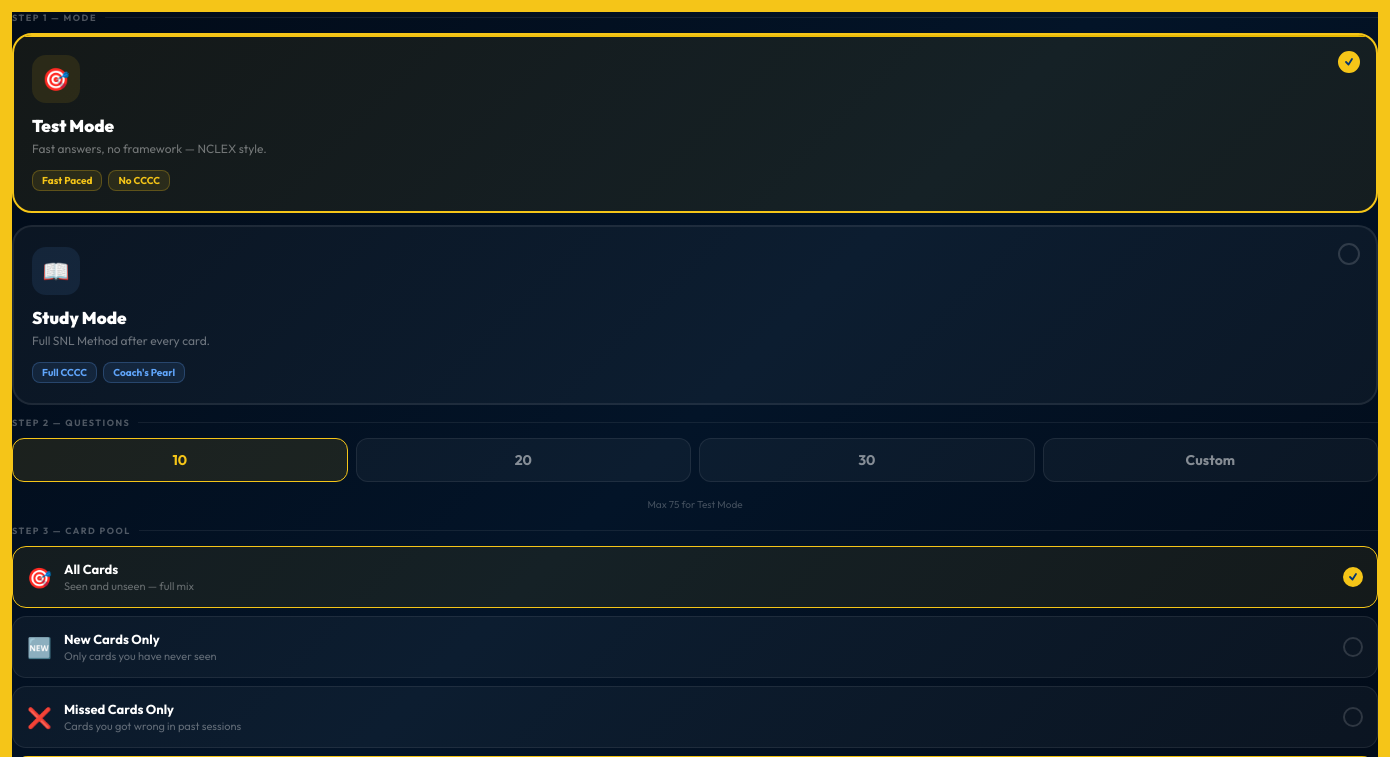
SessionSetup › shows custom input when Custom is clicked
Click the button "Custom": (1210, 460) top-left (1042, 438), bottom-right (1378, 482)
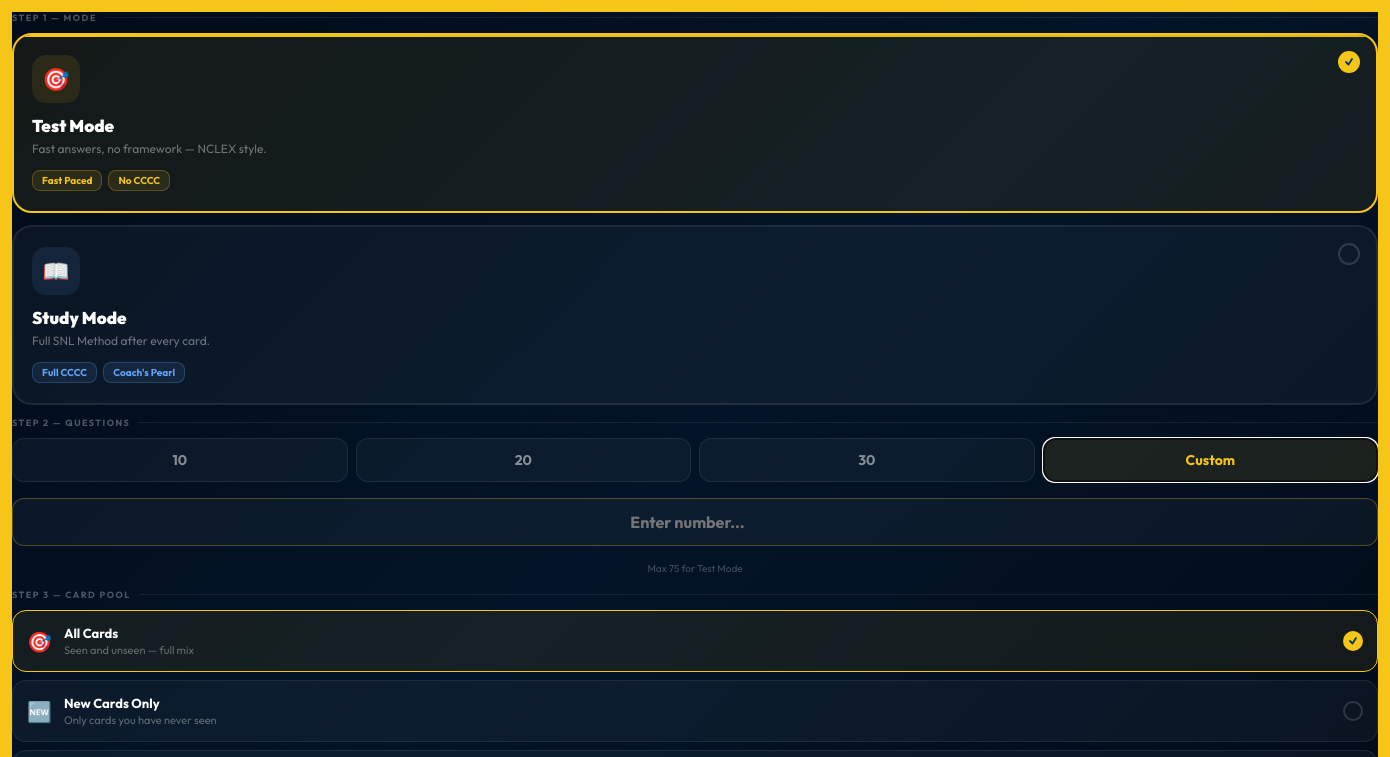
Expected: the number field with placeholder "Enter number..." is shown, top-left (12, 498), bottom-right (1378, 546)
